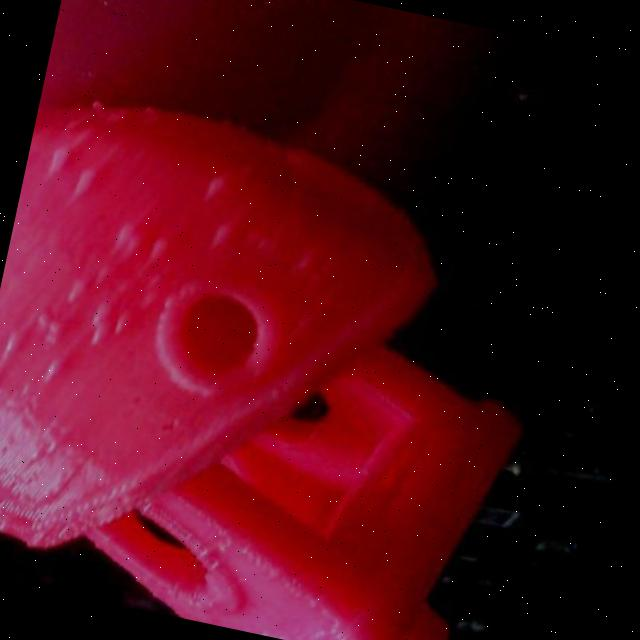blobs: (100, 215, 148, 262), (140, 224, 187, 270), (28, 304, 74, 342), (77, 301, 116, 344), (35, 348, 76, 387), (67, 164, 104, 204), (203, 214, 240, 251), (200, 164, 237, 200), (106, 303, 141, 339), (39, 138, 76, 170), (58, 270, 90, 301), (291, 245, 320, 278), (0, 324, 28, 357)
